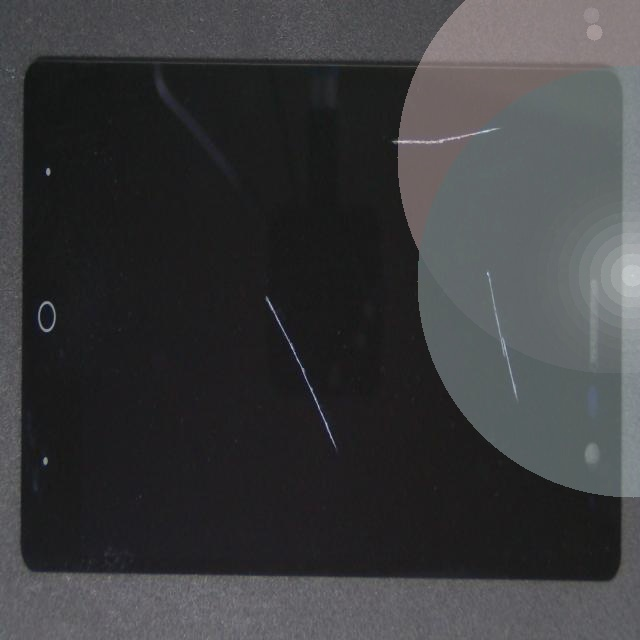scratch: (285, 305, 640, 552), (152, 126, 388, 423), (286, 68, 640, 189)
